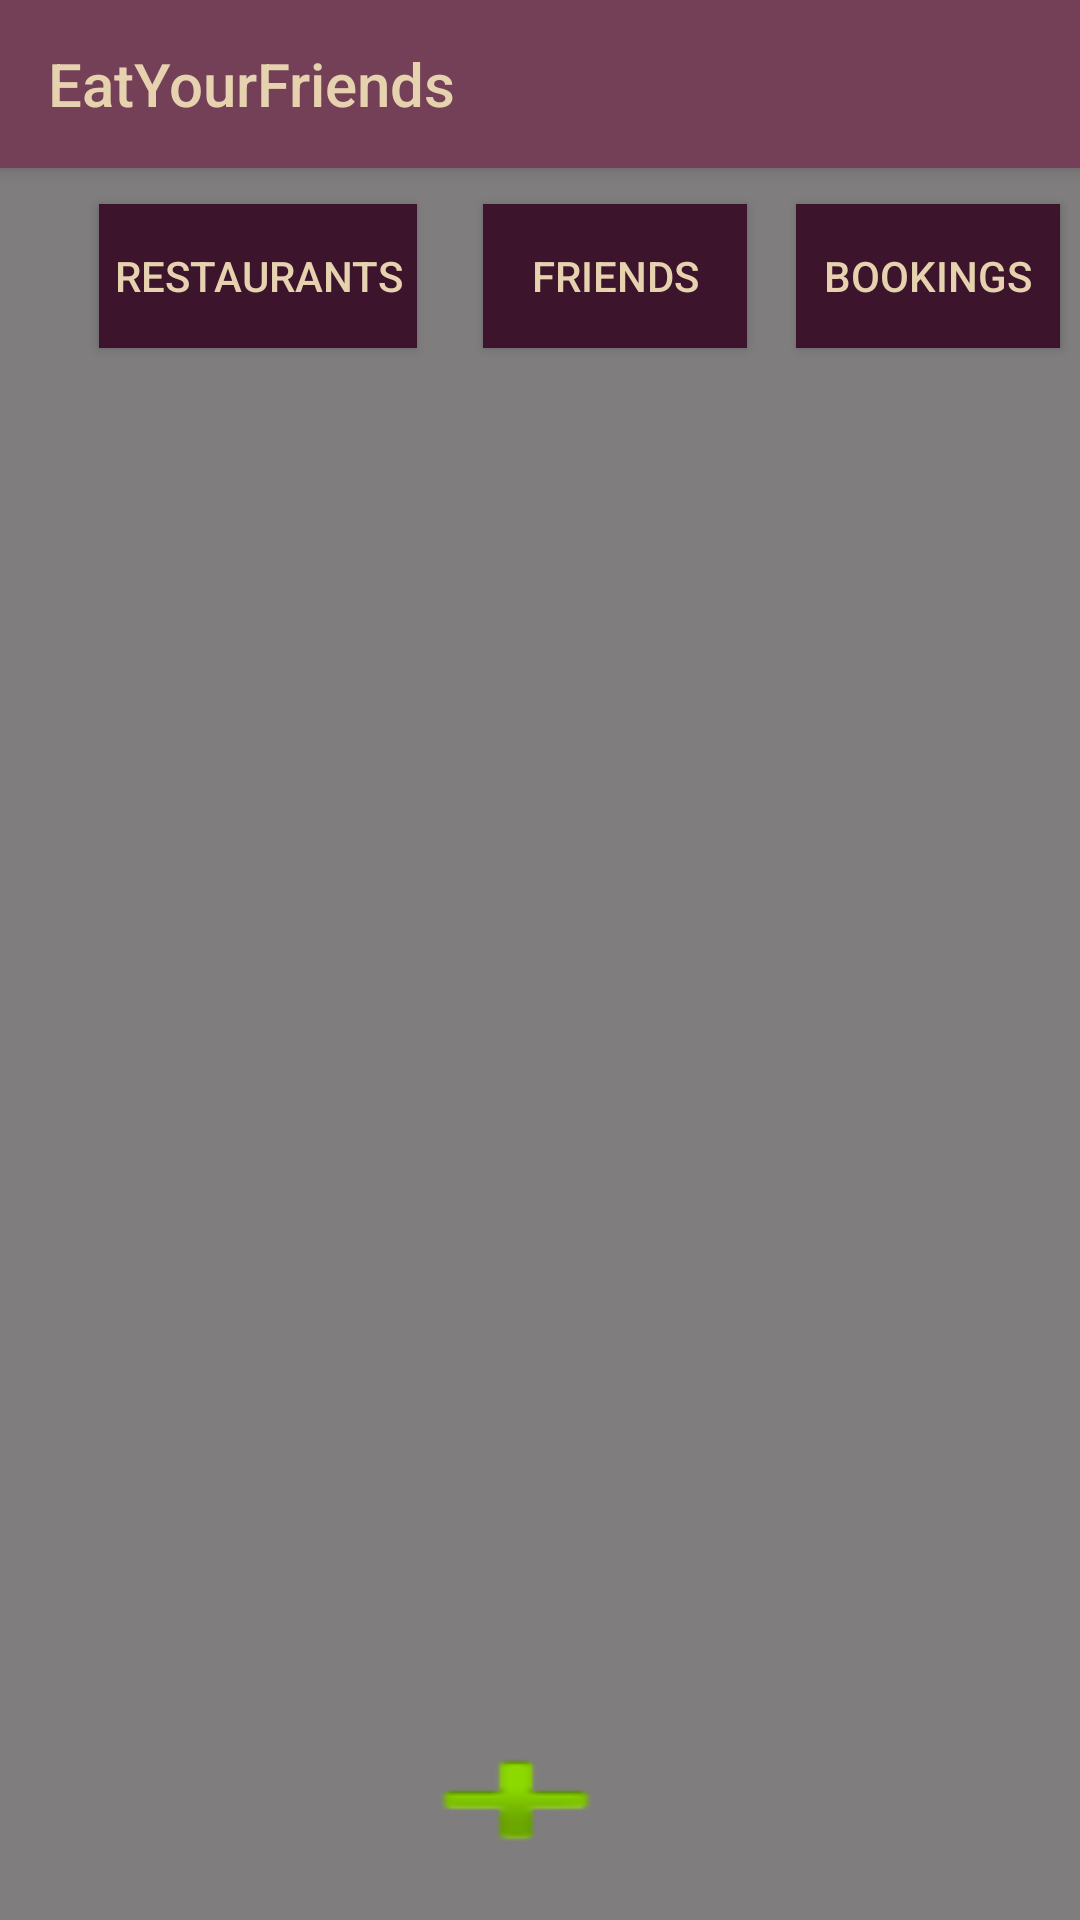

Where icons sit on this 1080 × 1920 app screen, as (x1, y1, x2, y2):
add: (442, 1760, 590, 1840)
